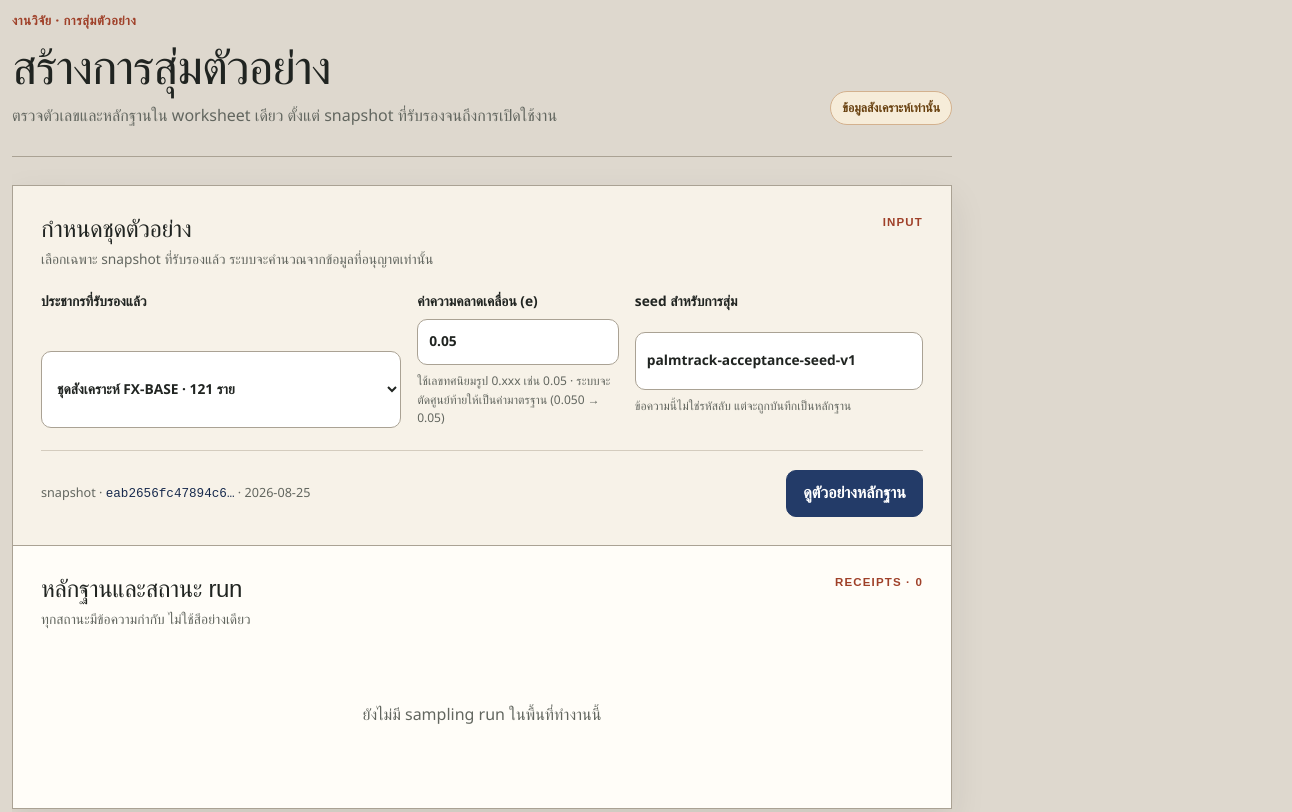
Test: SamplingWorkbench › invalidates a preview when any input changes and keeps e as the submitted string
Click the button "ดูตัวอย่างหลักฐาน": (855, 493) top-left (786, 470), bottom-right (923, 517)
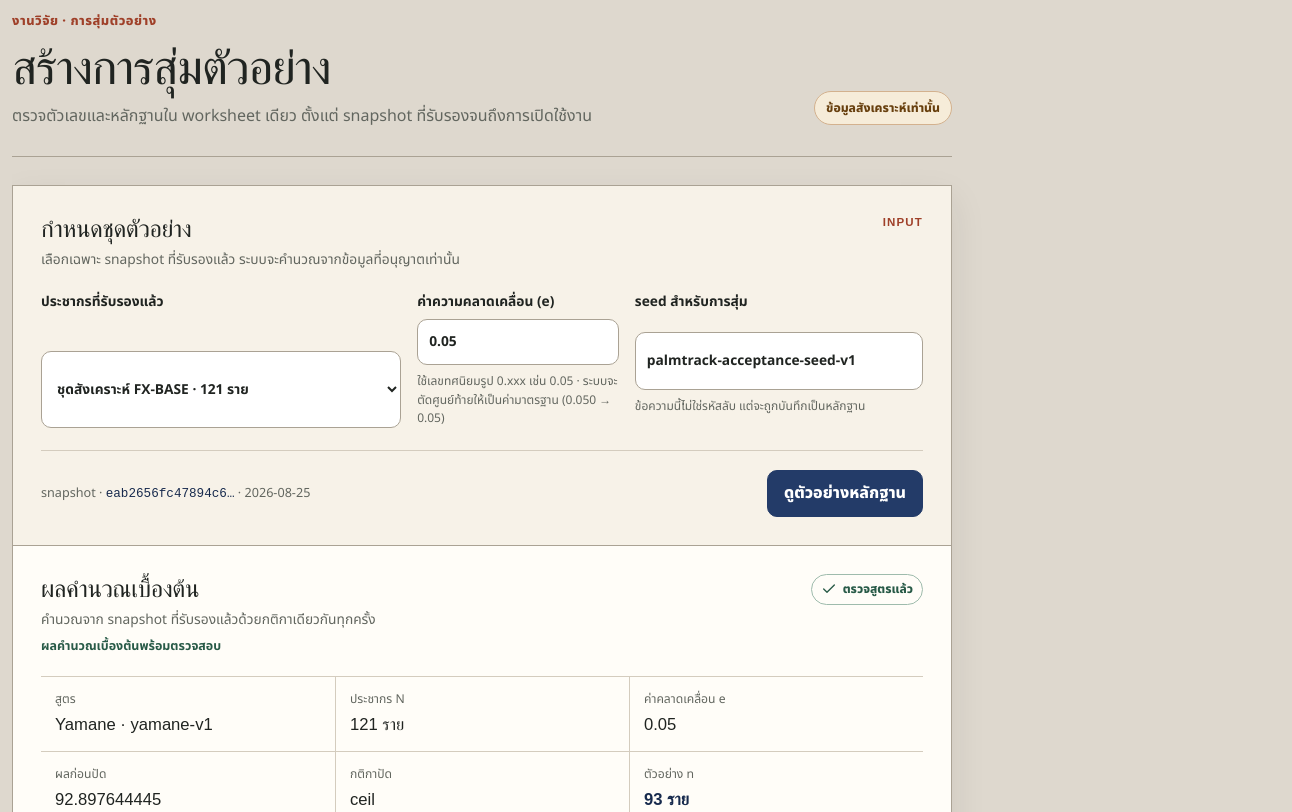
Now the text "ผลคำนวณเบื้องต้นพร้อมตรวจสอบ" is shown, box top-left (41, 637), bottom-right (221, 656)
Replace the text in the number field labelled "ค่าความคลาดเคลื่อน (e)" with "0.050": (518, 342) top-left (417, 319), bottom-right (619, 365)
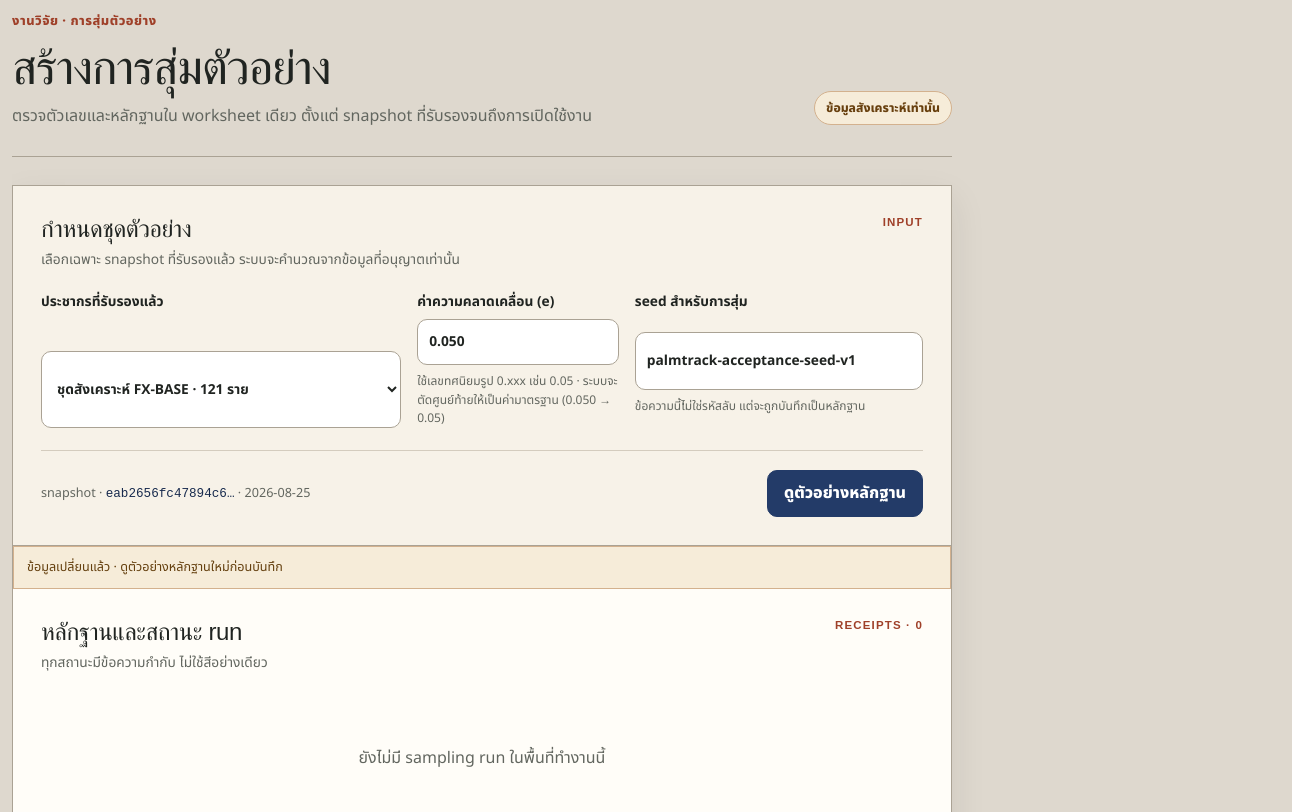
Now the text "ข้อมูลเปลี่ยนแล้ว · ดูตัวอย่างหลักฐานใหม่ก่อนบันทึก" is shown, box top-left (13, 546), bottom-right (951, 589)
